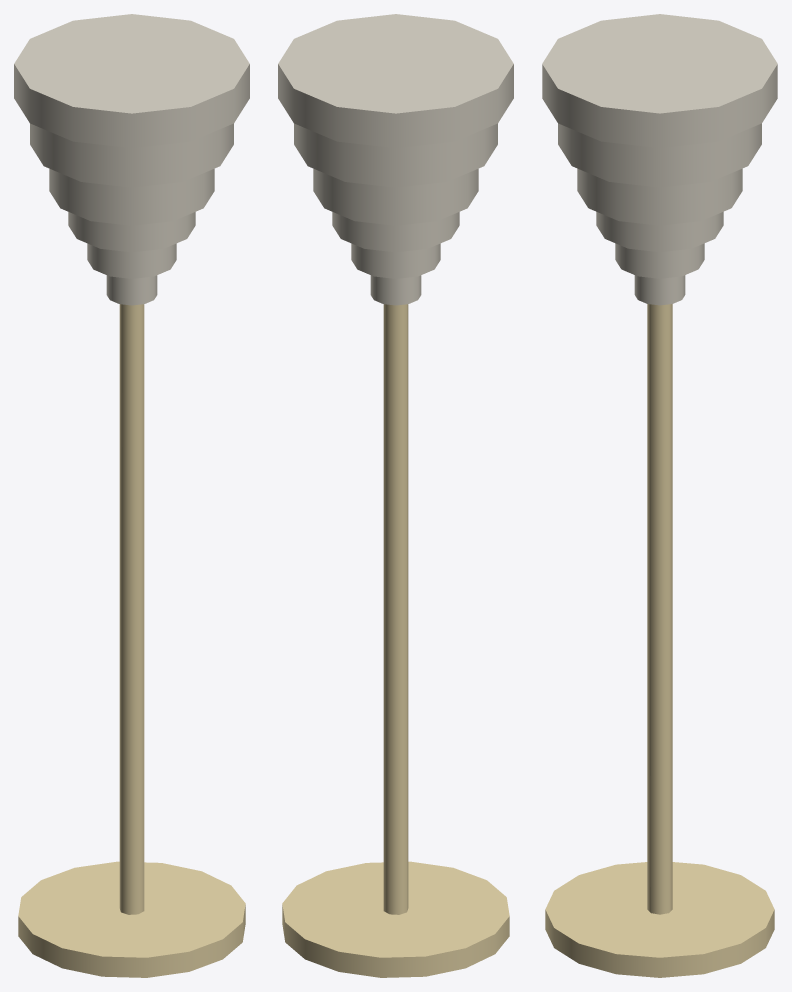
The model's file is lamp.glb.
3 renders of one model, left to right at view 1: azimuth 30°, elevation 25°; view 2: azimuth 150°, elevation 25°; view 3: azimuth 270°, elevation 25°, orthographic.
Bounding box in the file's own units: 0.37 × 1.5 × 0.37.
